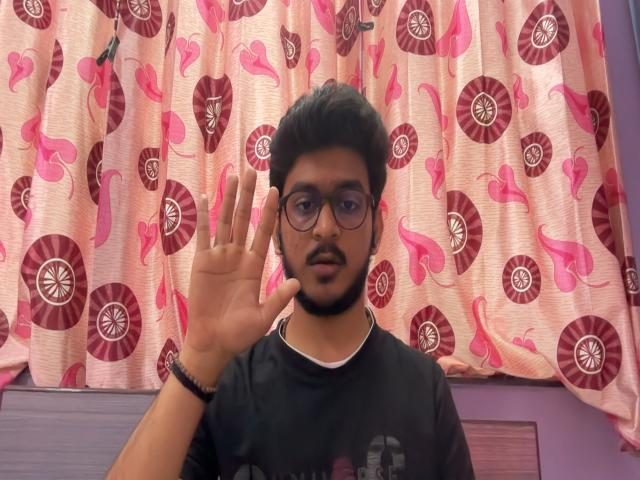Hello: (180, 157, 303, 354)
